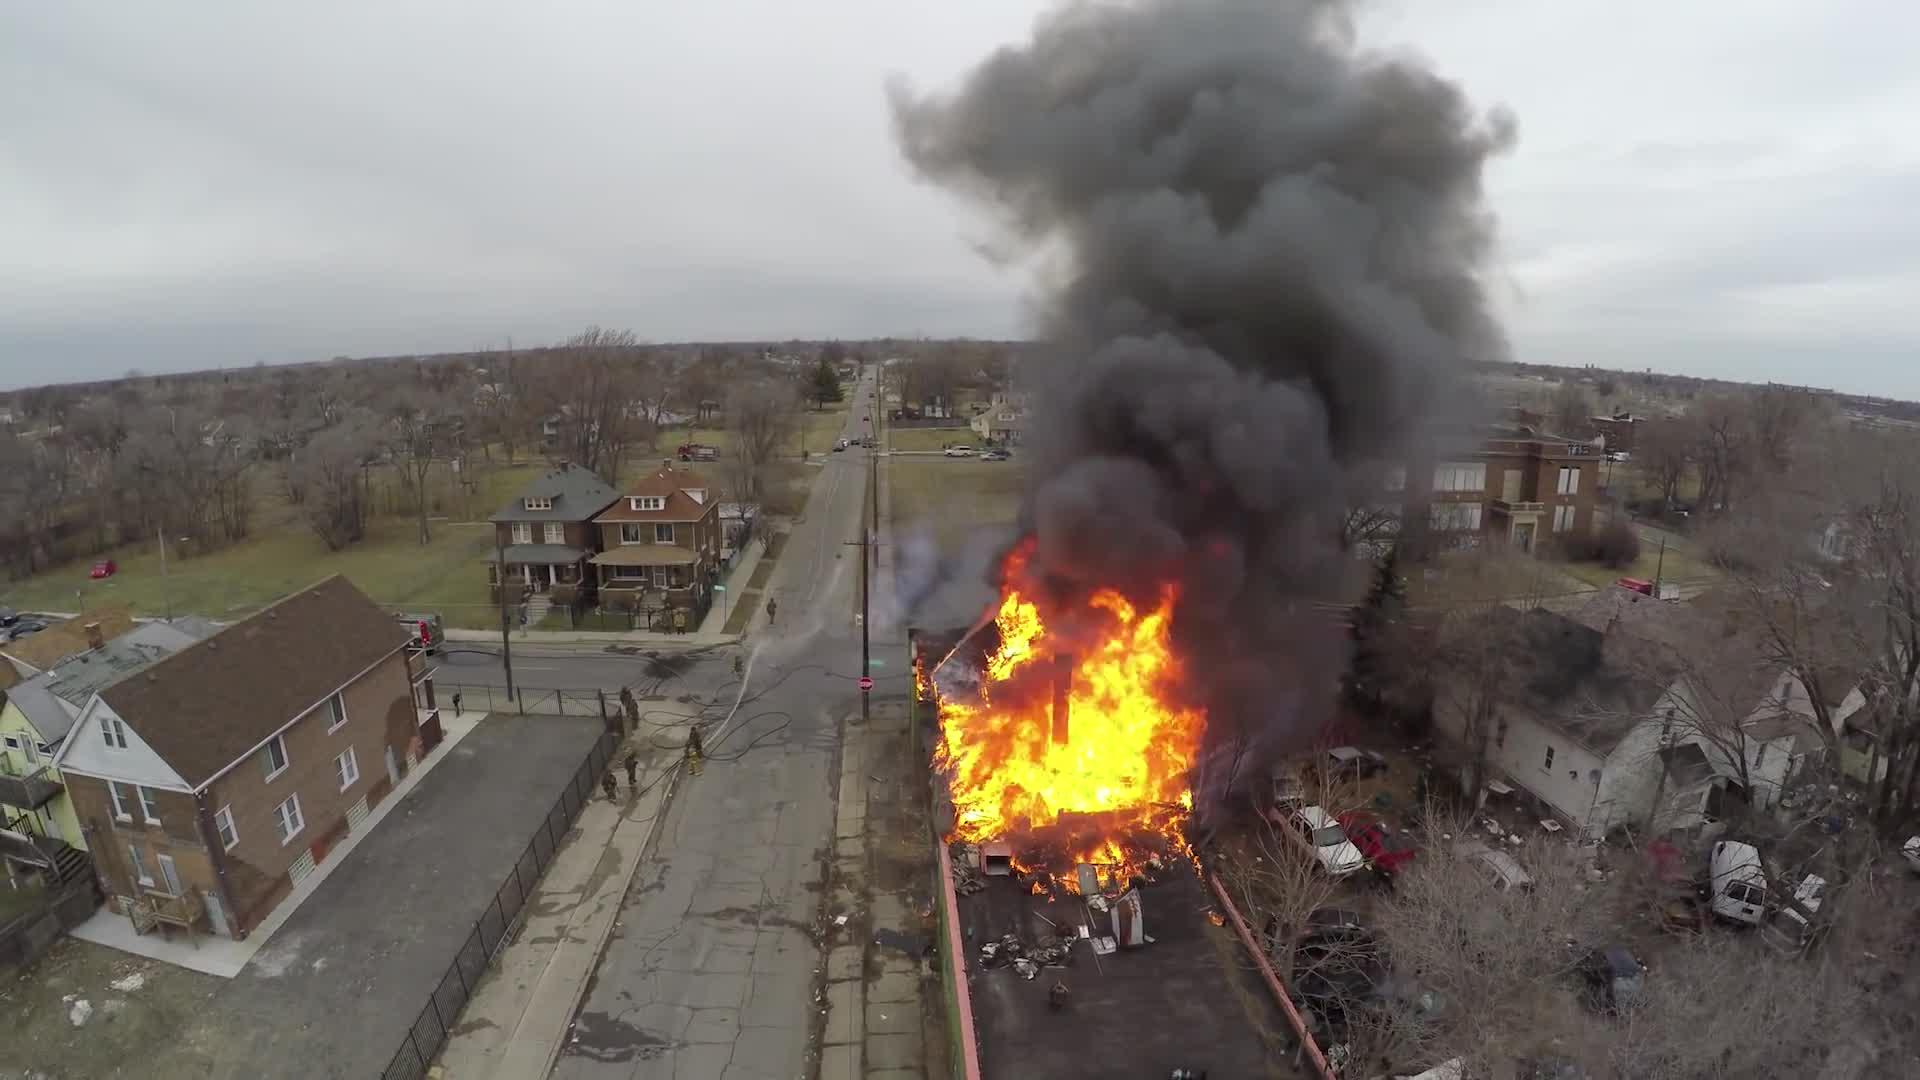fire: (934, 535, 1222, 920)
